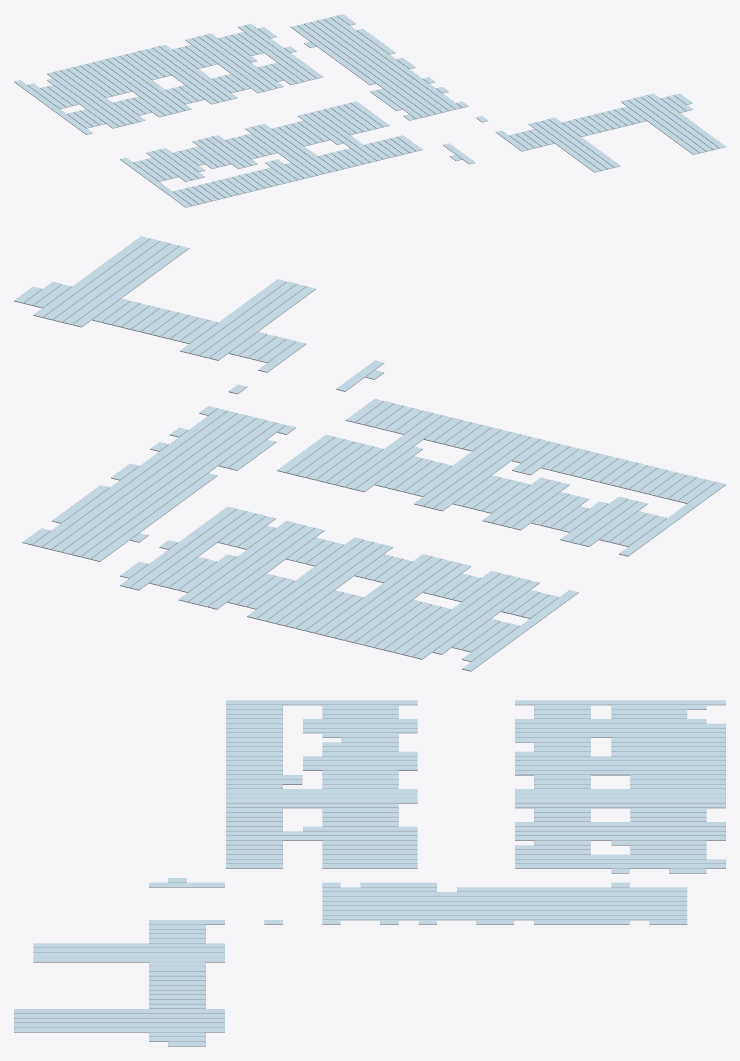
Rendered from SM_MPR4_SolarBank_02_1_LOD1.fbx.
3 views of the same model, one above another, from view 1: azimuth 30°, elevation 25°; view 2: azimuth 150°, elevation 25°; view 3: azimuth 270°, elevation 25° (orthographic). The views are drawn at different scales.
Visible parts, largest first — view 1: SM_MPR4_SolarBank_02_1_LOD1; view 2: SM_MPR4_SolarBank_02_1_LOD1; view 3: SM_MPR4_SolarBank_02_1_LOD1.
Boxes of the visible parts, x1,y1,x2,y2 form: SM_MPR4_SolarBank_02_1_LOD1: (14,14,725,207); SM_MPR4_SolarBank_02_1_LOD1: (14,236,725,671); SM_MPR4_SolarBank_02_1_LOD1: (14,700,725,1046).
Size of the model in its own units: 8281 by 7207 by 8.6.
